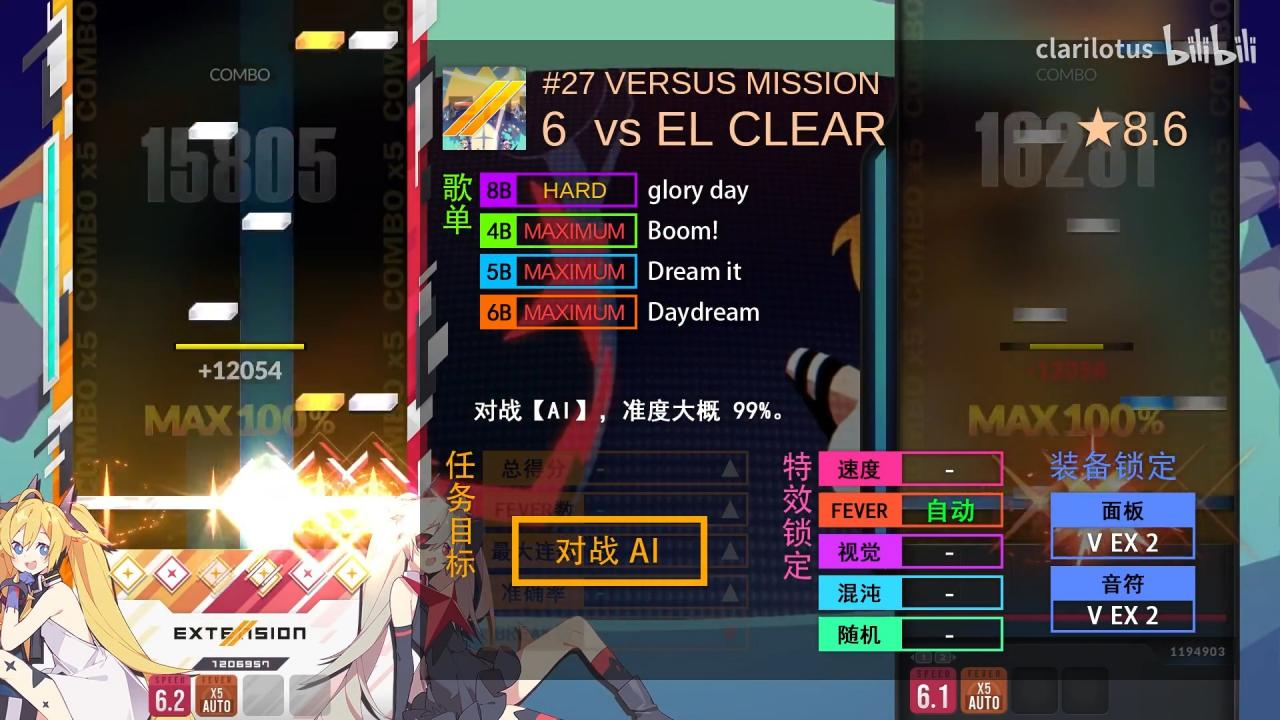note: (188, 121, 238, 140), (242, 212, 292, 231), (294, 31, 345, 49), (348, 31, 398, 49), (188, 302, 238, 320), (296, 393, 346, 411), (348, 393, 398, 410)
